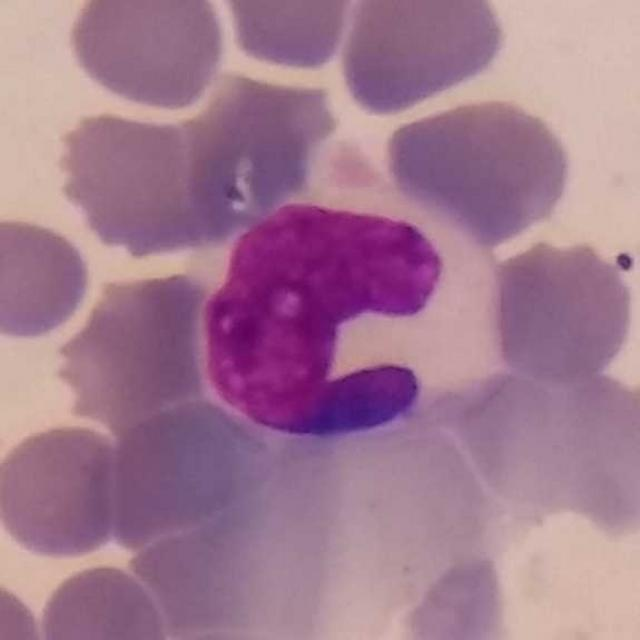Monocyte: (192, 178, 508, 454)
Platelets: (612, 245, 639, 276)
RBC: (380, 90, 578, 244), (453, 356, 638, 518), (101, 395, 277, 549), (50, 104, 222, 260), (53, 268, 216, 424), (482, 232, 640, 388), (192, 67, 346, 219), (502, 484, 639, 639), (335, 0, 512, 118), (62, 0, 230, 116), (0, 419, 124, 562), (550, 372, 640, 540), (384, 545, 521, 640), (0, 209, 95, 344), (209, 0, 360, 75), (34, 558, 172, 640), (0, 573, 49, 640), (137, 624, 304, 640)
